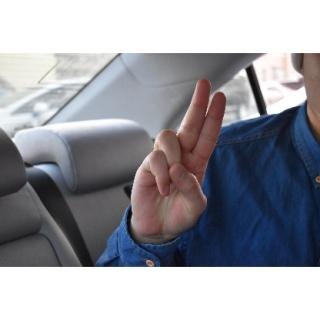TA: (130, 71, 234, 242)
